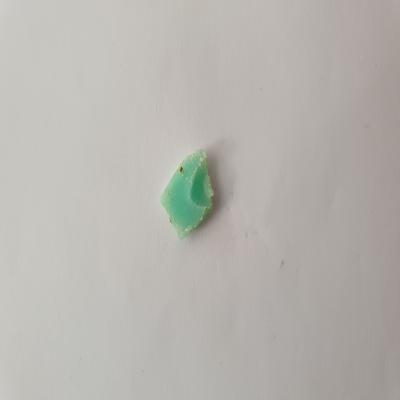plastic: (156, 144, 224, 241)
